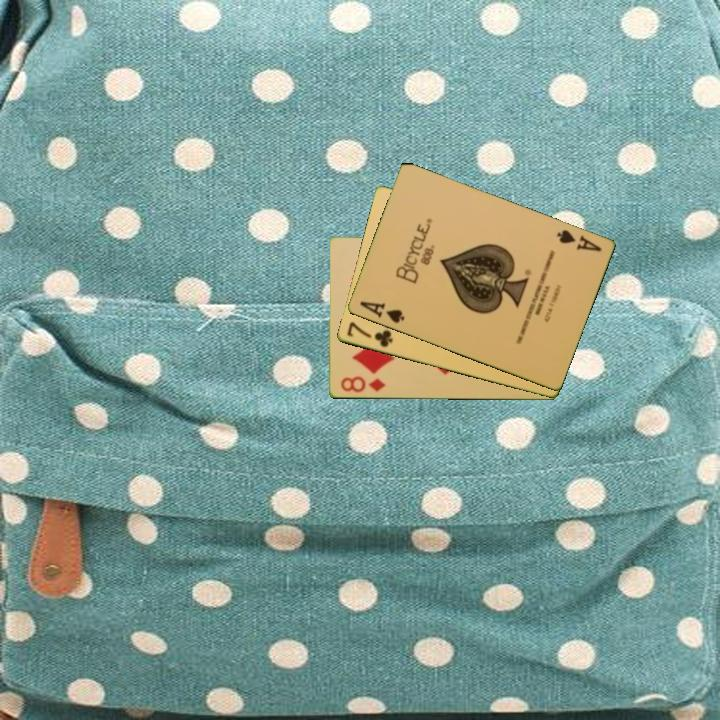7c: (343, 318, 395, 350)
8d: (337, 373, 388, 395)
As: (553, 226, 604, 255), (356, 298, 407, 326)
